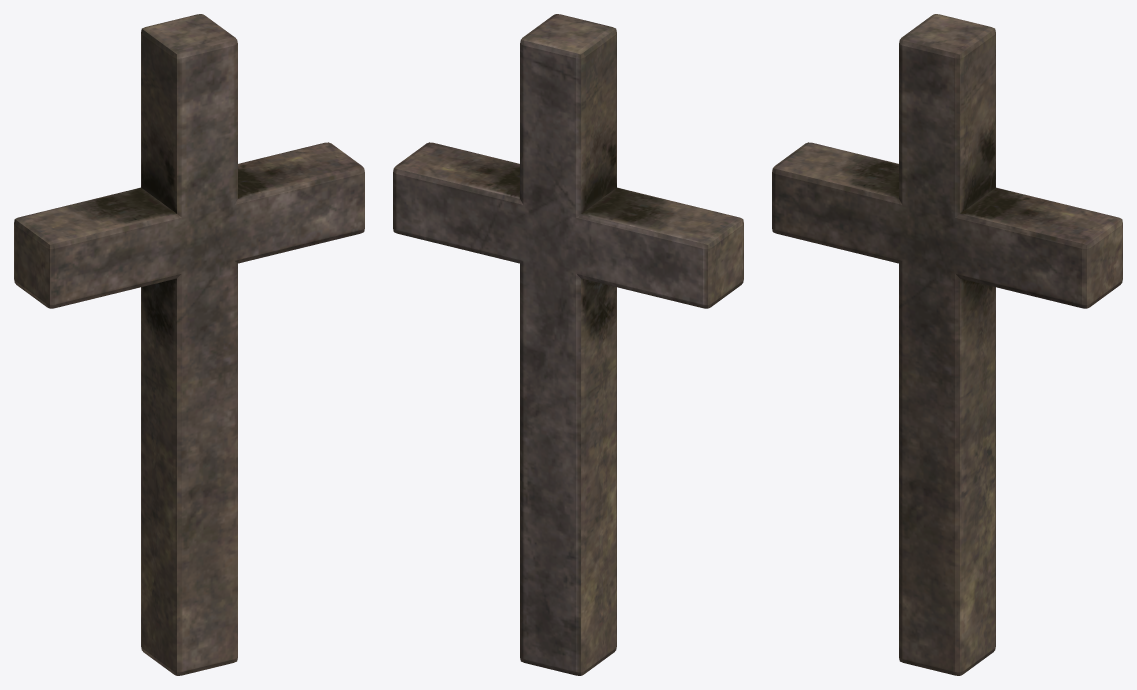
The model's file is SM_gravestone_16.fbx.
3 renders of one model, left to right at view 1: azimuth 30°, elevation 25°; view 2: azimuth 150°, elevation 25°; view 3: azimuth 330°, elevation 25°, orthographic.
Parts seen in each view (by area): view 1: SM_gravestone_016; view 2: SM_gravestone_016; view 3: SM_gravestone_016.
Part boxes in pixels (left/top/right/bottom): SM_gravestone_016: left=14, top=14, right=364, bottom=675; SM_gravestone_016: left=393, top=14, right=743, bottom=675; SM_gravestone_016: left=772, top=14, right=1122, bottom=675.
Size of the model in its own units: 30.13 by 56.66 by 6.17.
